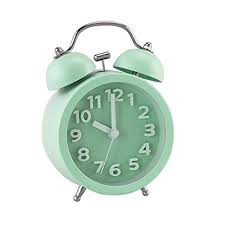alarm_clock: (40, 18, 172, 199), (40, 24, 172, 199), (43, 24, 172, 199)
